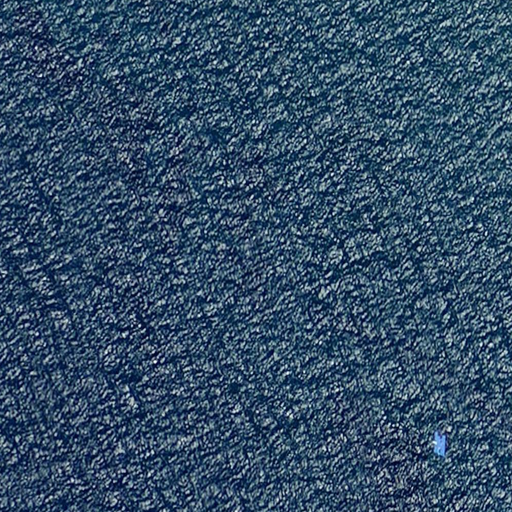ship: (432, 430, 446, 458)
